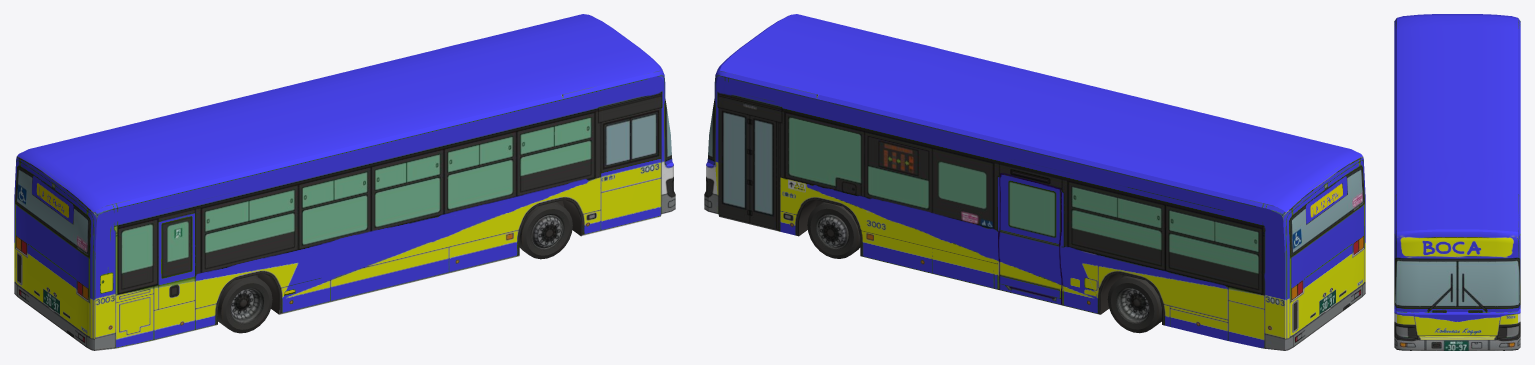
The model's file is Colectivo.glb.
3 views of the same model, side by side, from view 1: azimuth 30°, elevation 25°; view 2: azimuth 150°, elevation 25°; view 3: azimuth 270°, elevation 25° (orthographic). The views are drawn at different scales.
Visible parts, largest first — view 1: erga; view 2: erga; view 3: erga.
Part boxes in pixels (x1,y1,x2,y2): erga: [14, 14, 675, 350]; erga: [704, 14, 1365, 350]; erga: [1394, 14, 1520, 350].
Size of the model in its own units: 63.32 by 17.15 by 15.03.
1 material, 1 textured.
